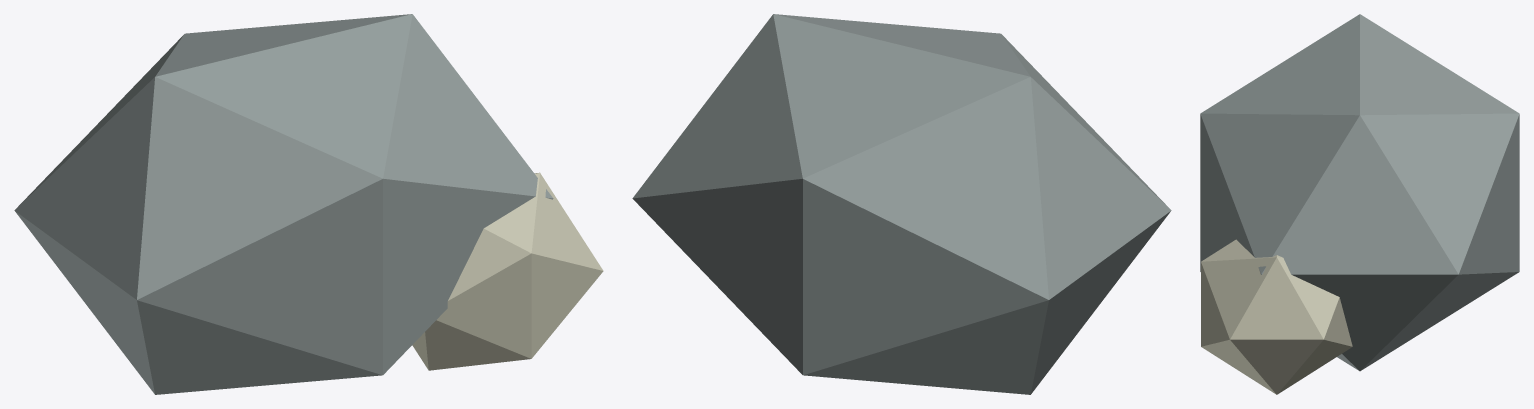
Rendered from ocean-scenery-36.glb.
The picture shows the model from 3 angles, left to right: view 1: azimuth 30°, elevation 25°; view 2: azimuth 150°, elevation 25°; view 3: azimuth 270°, elevation 25°; orthographic projection. The views are drawn at different scales.
Parts seen in each view (by area): view 1: Island shoreline stone; view 2: Island shoreline stone; view 3: Island shoreline stone.
Part boxes in pixels (x1,y1,x2,y2): Island shoreline stone: (14, 14, 603, 394); Island shoreline stone: (632, 14, 1171, 394); Island shoreline stone: (1200, 14, 1519, 394).
Size of the model in its own units: 1.35 by 0.9187 by 1.04.
